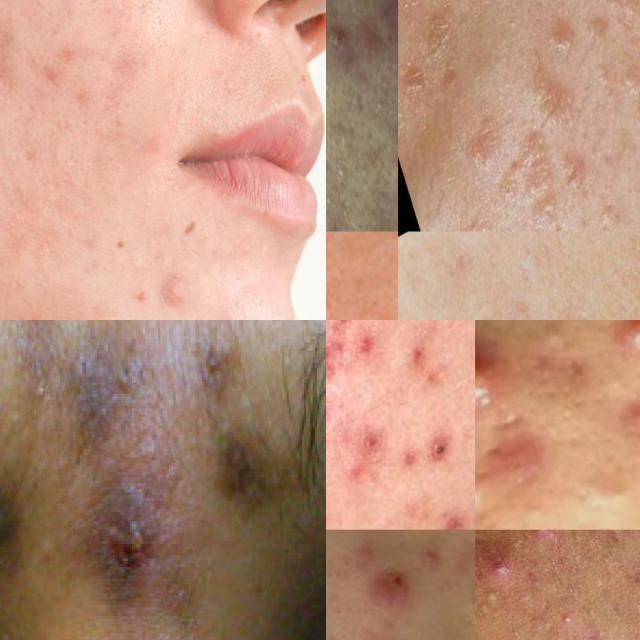acne_scars: (597, 320, 640, 373)
comedone: (595, 378, 640, 458), (508, 476, 569, 530), (475, 455, 509, 530), (598, 461, 640, 515), (326, 231, 374, 269), (552, 605, 585, 640), (425, 356, 452, 386), (475, 587, 494, 628), (326, 325, 336, 335)
cystic: (475, 321, 529, 436)
flat_wart: (482, 100, 586, 232), (543, 126, 617, 232), (521, 46, 588, 144), (533, 0, 595, 80), (454, 104, 514, 182), (610, 17, 640, 165), (414, 0, 467, 65), (576, 0, 622, 62)
papule: (326, 320, 401, 451), (343, 417, 392, 474), (422, 426, 462, 474), (447, 569, 475, 635)
pustule: (483, 548, 520, 586), (517, 530, 565, 552)
sebo-crystan-conglo: (329, 530, 442, 638)
